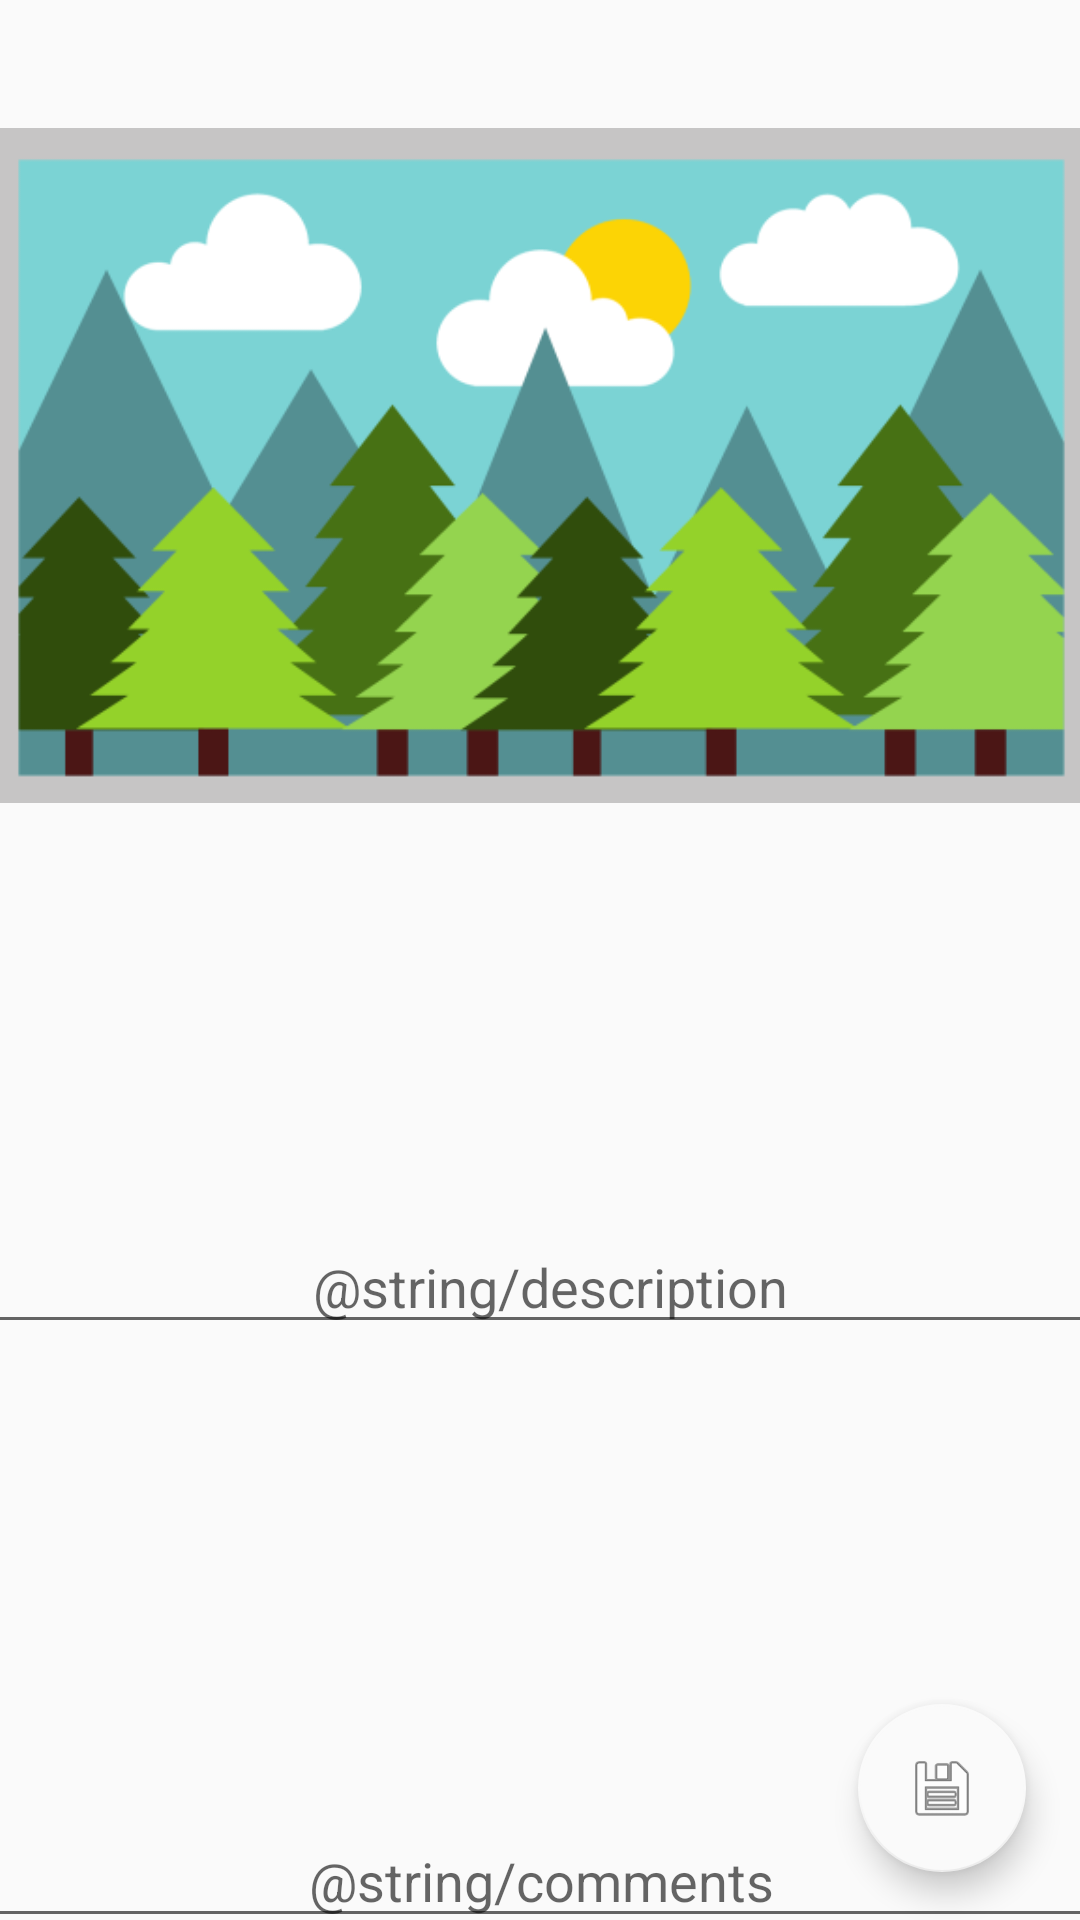

Icons on this 1080w x 1920h Android screen, each with the point to tap as point (x, y):
save: point (942, 1788)
